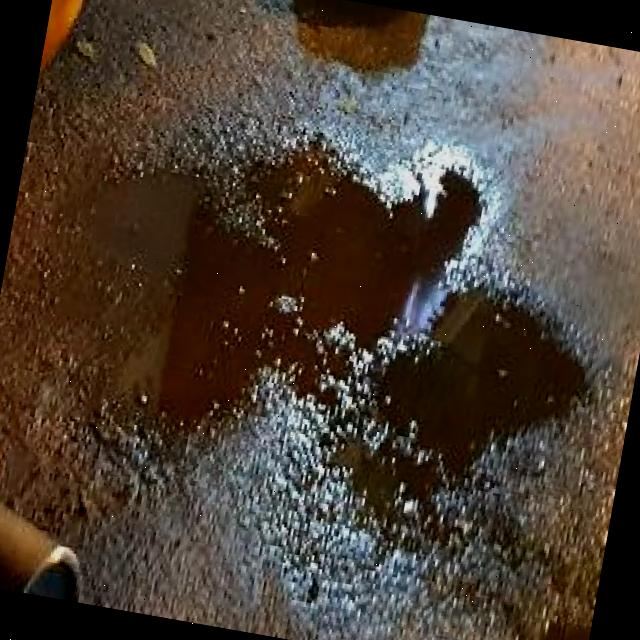stagnation: (34, 90, 629, 593)
